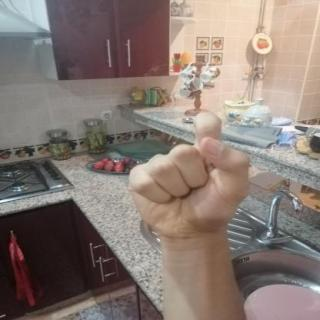FAA: (114, 104, 261, 248)
